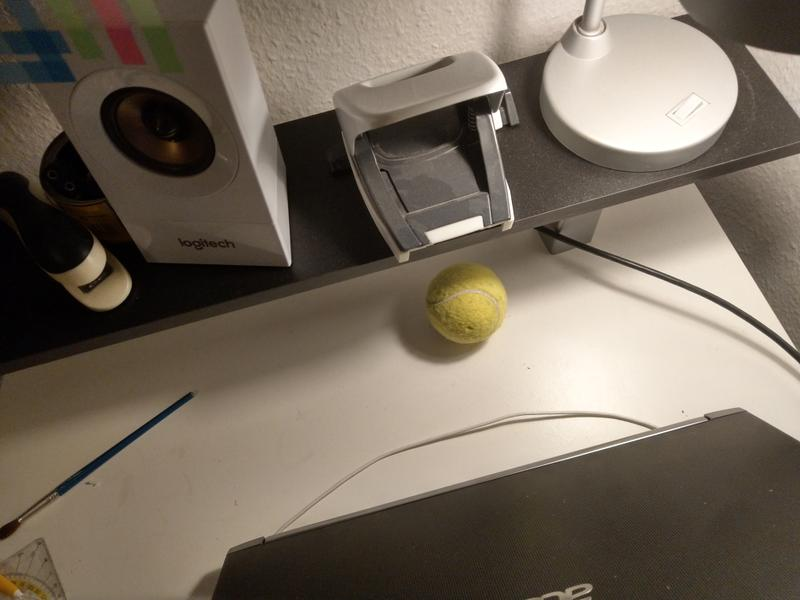Tennisball: (424, 256, 510, 347)
